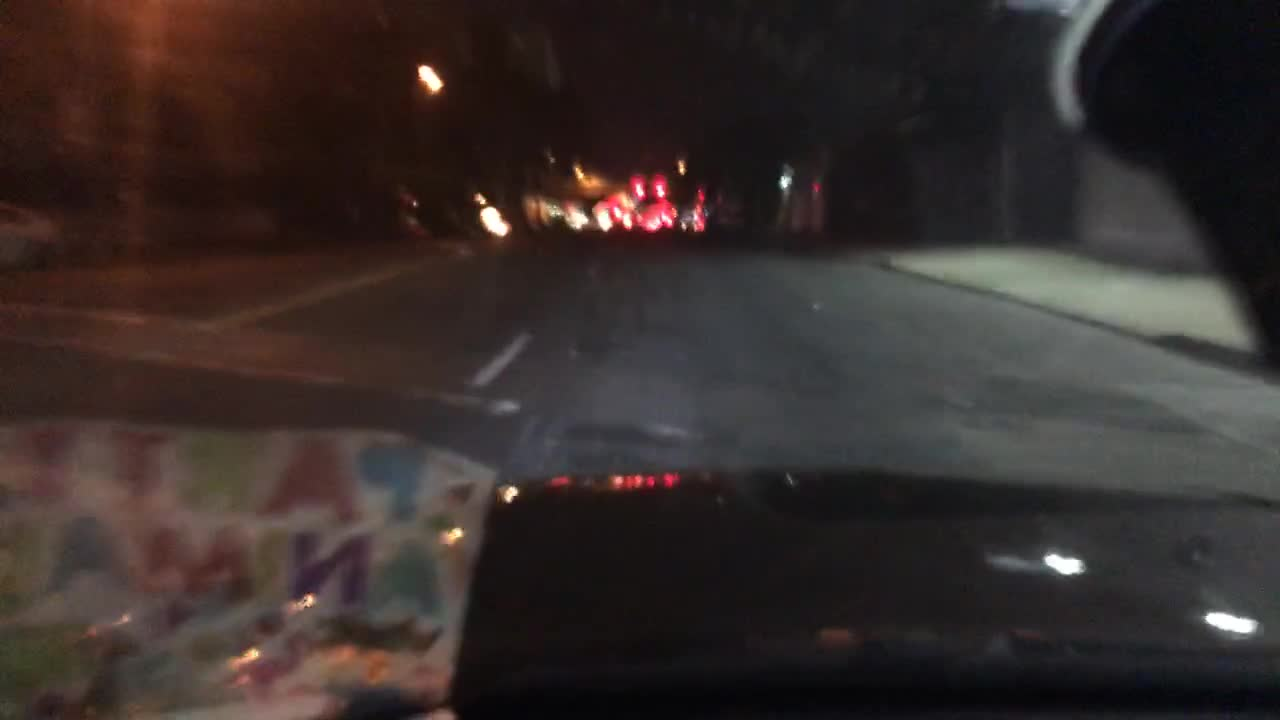car: (0, 199, 67, 275), (710, 190, 749, 230), (590, 197, 633, 233), (639, 204, 683, 238), (557, 206, 585, 231)
traffic light: (651, 175, 663, 199), (631, 177, 644, 197)
